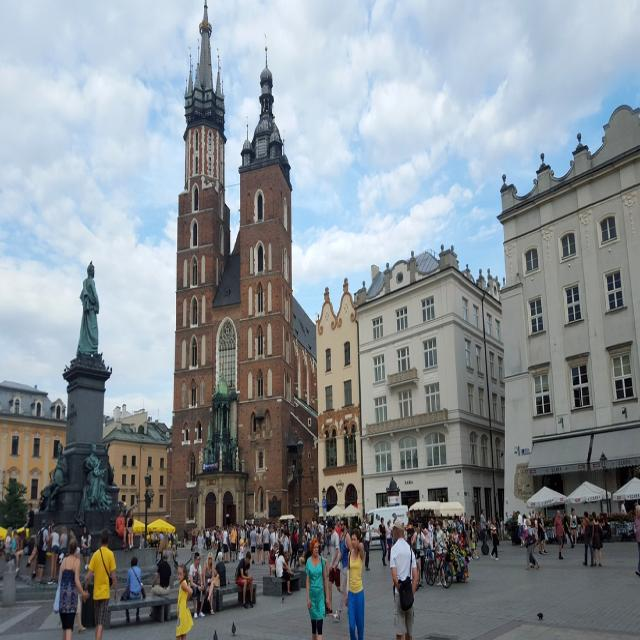body: (140, 508, 637, 551), (81, 527, 119, 639), (387, 515, 418, 639), (56, 535, 90, 640), (75, 443, 112, 519), (342, 525, 366, 639), (304, 536, 330, 639), (38, 439, 70, 513), (331, 515, 353, 622), (62, 544, 87, 632), (79, 262, 101, 356), (120, 555, 147, 624), (308, 542, 330, 624), (0, 526, 43, 567), (325, 517, 342, 616), (175, 563, 194, 640), (233, 549, 255, 611), (188, 549, 206, 619), (149, 548, 173, 597), (275, 542, 295, 596), (35, 517, 50, 586), (434, 518, 448, 588), (202, 550, 216, 616), (524, 516, 540, 570), (46, 524, 60, 585), (414, 522, 428, 583), (580, 509, 594, 568), (590, 509, 604, 566), (553, 508, 567, 560), (360, 512, 372, 572), (14, 529, 30, 573), (559, 507, 575, 550), (114, 508, 128, 552), (80, 524, 92, 573), (154, 540, 165, 592), (377, 514, 388, 566), (296, 532, 310, 572), (288, 524, 300, 570), (536, 511, 548, 555), (489, 516, 500, 562), (155, 532, 169, 568), (468, 519, 480, 561), (214, 550, 227, 587), (634, 502, 640, 580), (384, 517, 394, 562), (125, 506, 135, 550), (261, 521, 271, 565), (479, 507, 490, 546), (538, 513, 549, 552), (568, 505, 578, 547), (516, 509, 526, 549), (10, 528, 18, 577), (58, 525, 69, 558), (23, 501, 35, 531), (230, 524, 238, 564), (248, 524, 256, 564), (255, 525, 263, 565), (222, 524, 229, 564), (532, 512, 539, 552), (82, 550, 93, 574), (268, 540, 278, 566), (68, 526, 79, 549), (3, 525, 13, 550), (49, 520, 56, 553), (628, 498, 640, 509), (620, 499, 627, 515), (284, 551, 290, 568), (290, 461, 296, 475)
